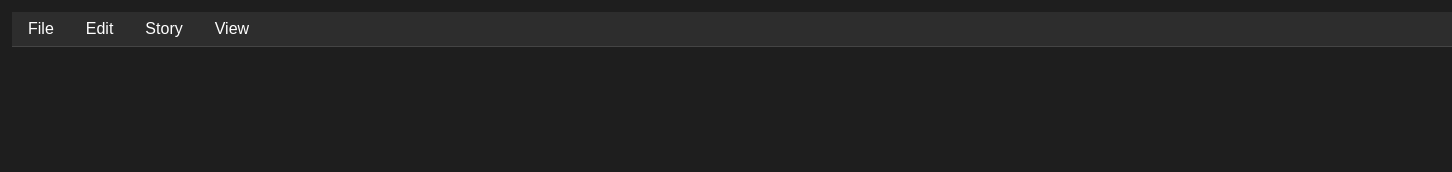
Test: Feature: Menu Bar Component › Scenario: Keyboard navigation › Given a menu item is focused, When Escape is pressed, Then the menu should close
This screenshot has width=1452, height=172.
Step 1. Click the button "Edit" → (100, 29), box [70,12,129,46]
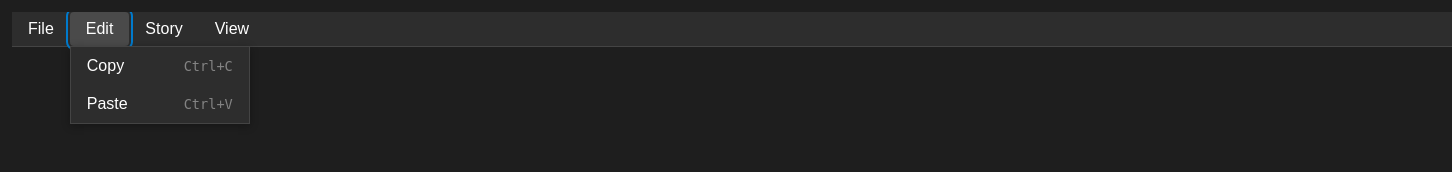
Step 2. Press Escape
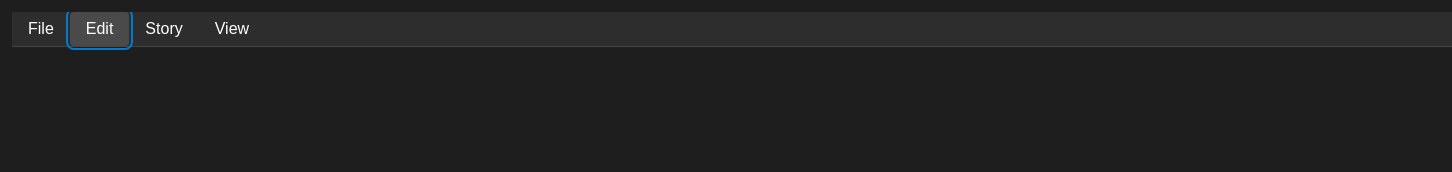
Now the menu item "Copy" is gone
